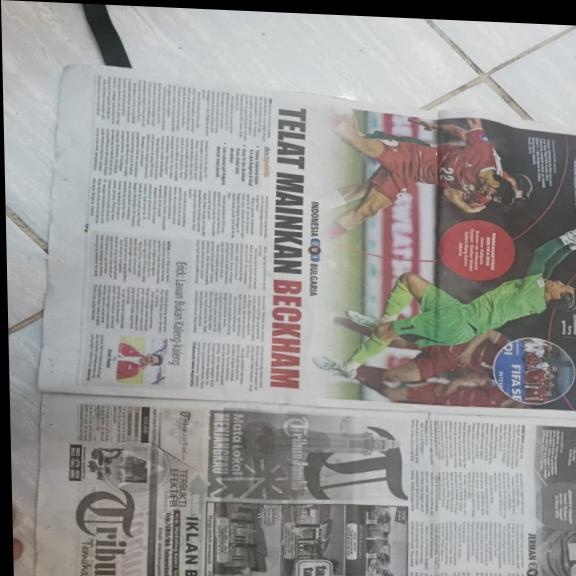Kertas: (40, 67, 330, 393), (322, 105, 576, 390), (47, 399, 413, 576), (410, 409, 576, 576)
